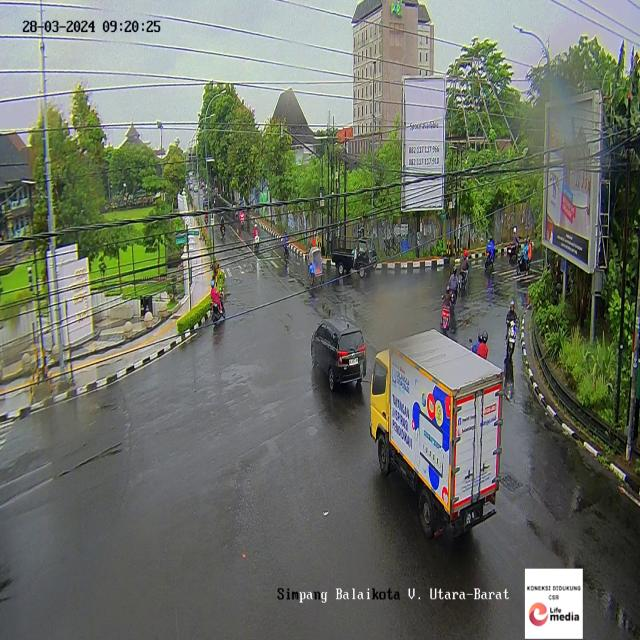car: (310, 319, 368, 395)
motorcycle: (506, 293, 519, 364), (209, 278, 224, 329), (469, 328, 491, 360), (438, 287, 453, 332), (517, 234, 531, 277), (449, 264, 460, 310), (507, 222, 518, 265), (460, 248, 470, 293), (484, 233, 496, 270), (282, 227, 290, 260), (251, 225, 260, 254), (220, 214, 226, 240), (239, 206, 245, 227)
truck: (369, 327, 506, 540), (331, 232, 379, 277)
